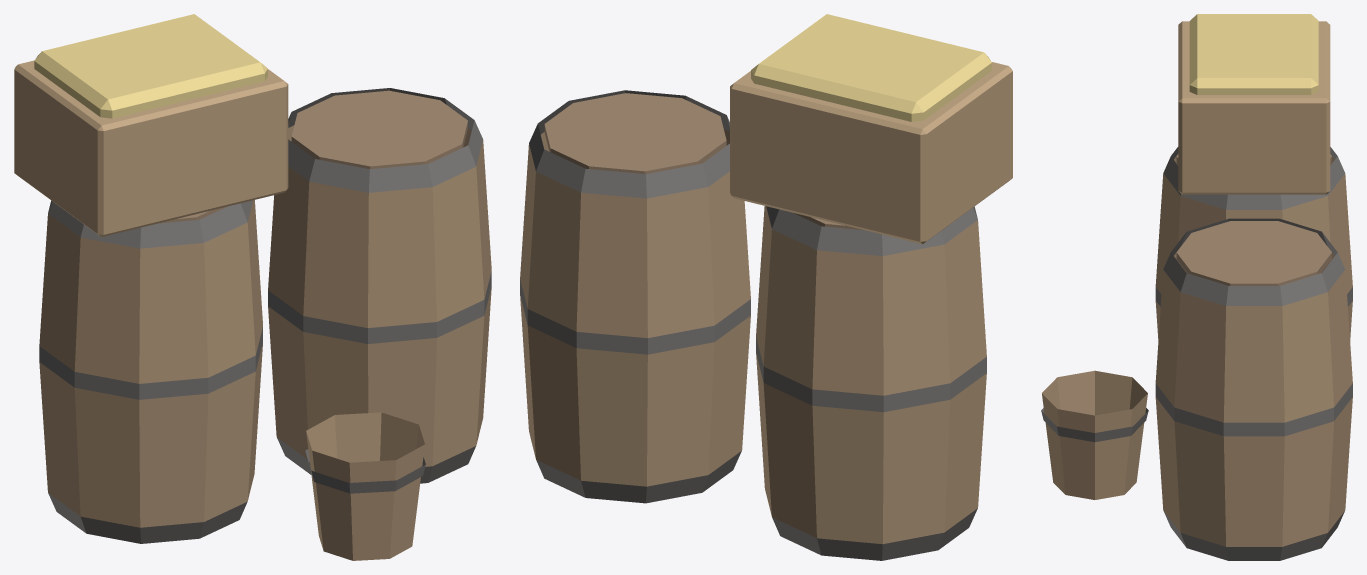
The model's file is barrels_v2.glb.
The picture shows the model from 3 angles, left to right: view 1: azimuth 30°, elevation 25°; view 2: azimuth 150°, elevation 25°; view 3: azimuth 270°, elevation 25°; orthographic projection. The views are drawn at different scales.
Parts seen in each view (by area): view 1: barrels; view 2: barrels; view 3: barrels.
Part boxes in pixels (box(x1,y1,x2,y2)): barrels: box(14, 14, 491, 560); barrels: box(520, 14, 1012, 560); barrels: box(1041, 14, 1352, 560).
Size of the model in its own units: 1.1 by 1.12 by 0.822.
